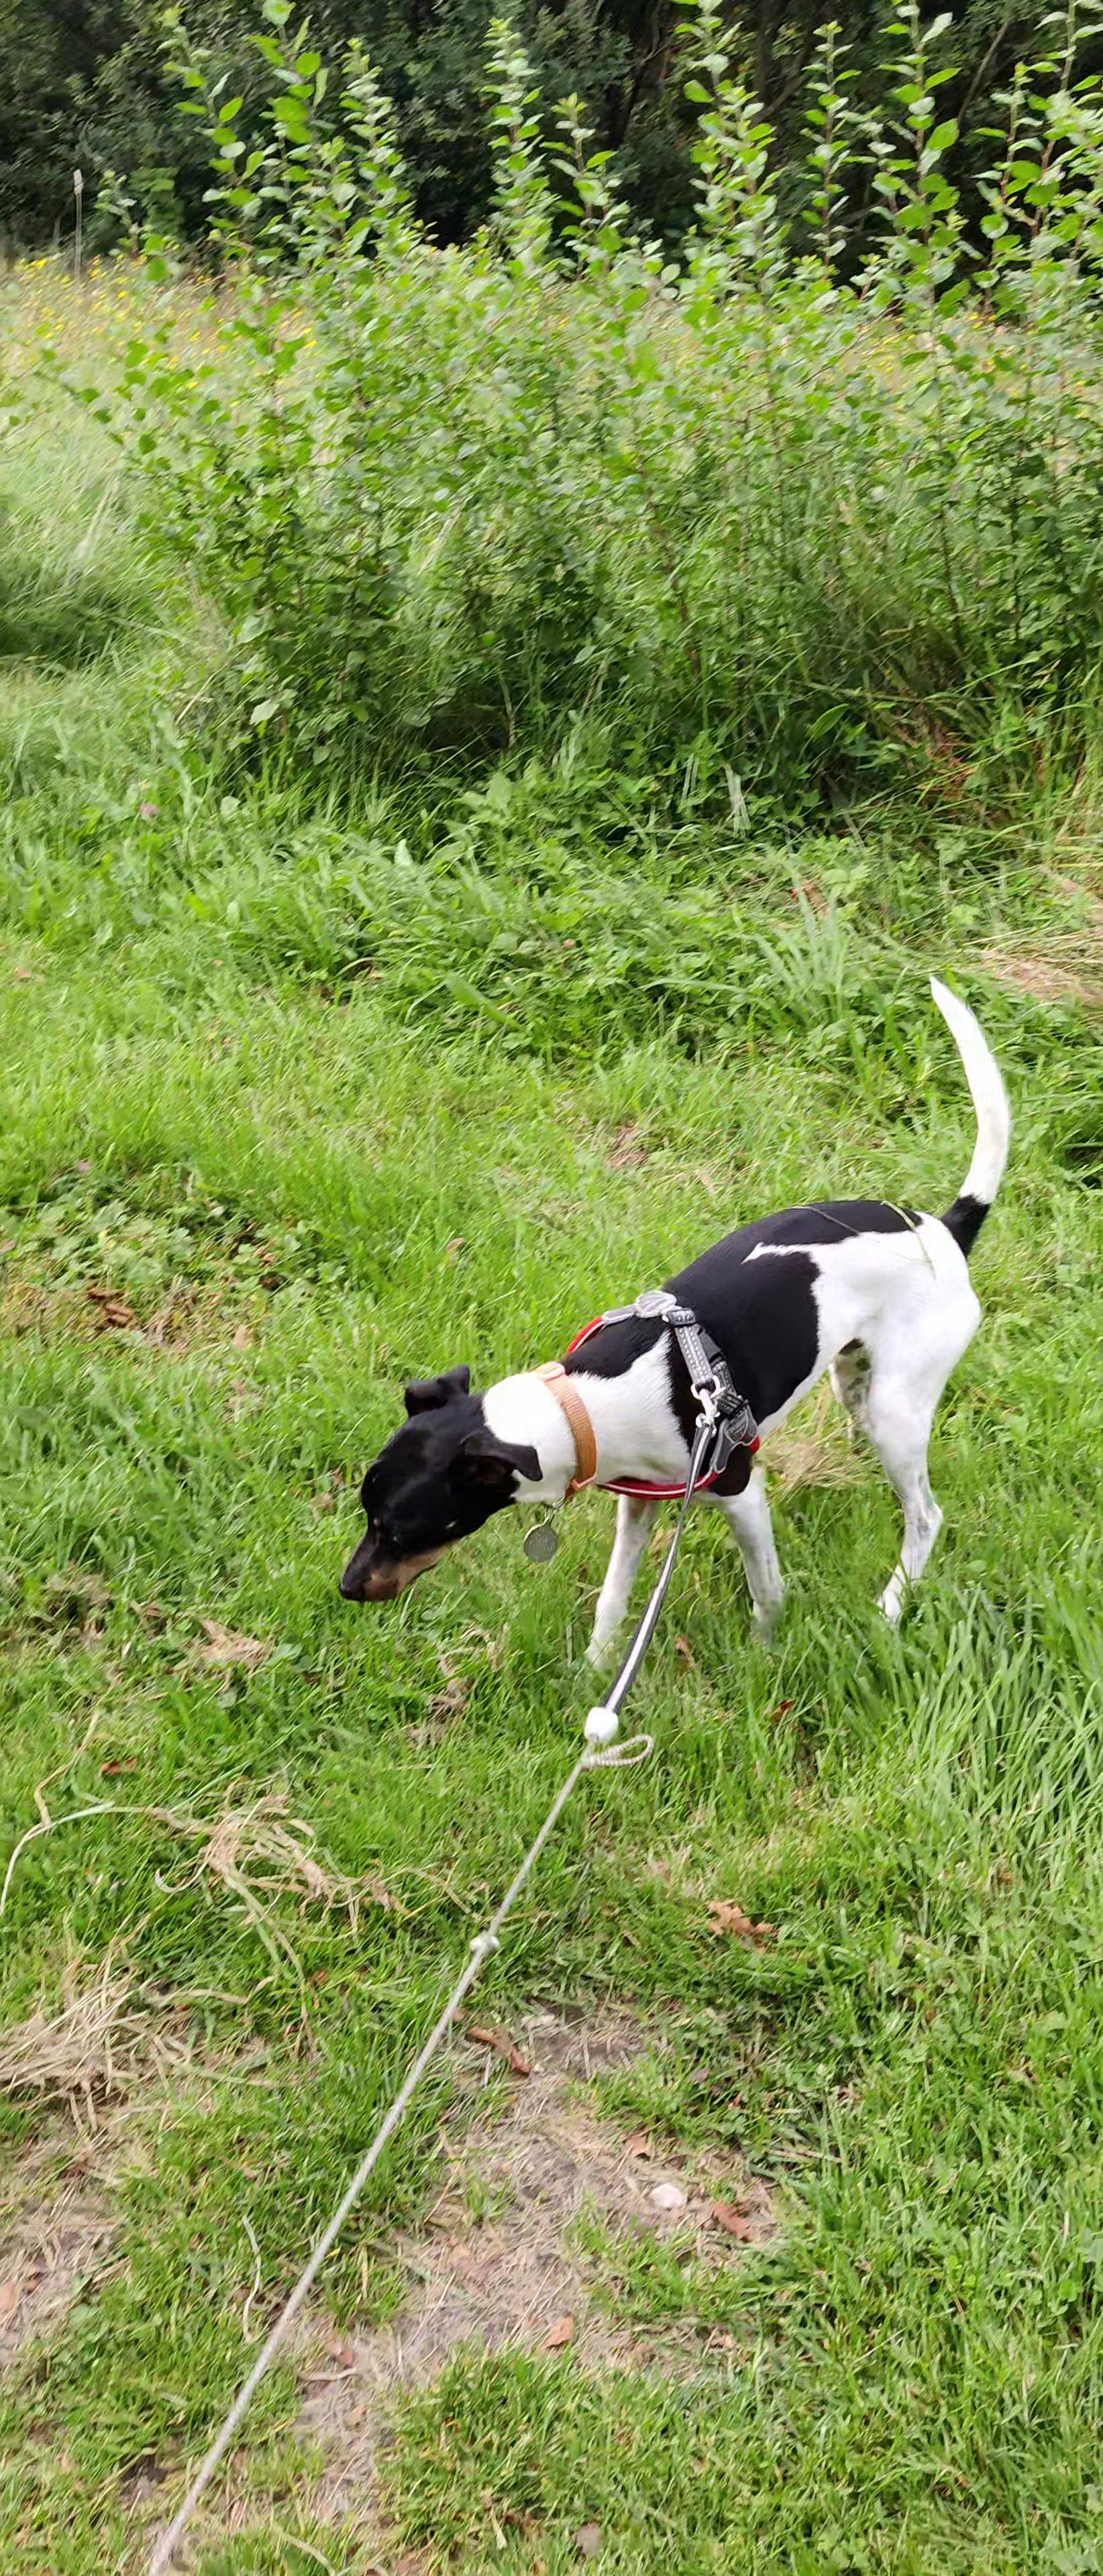Dog: (329, 963, 1019, 1677)
